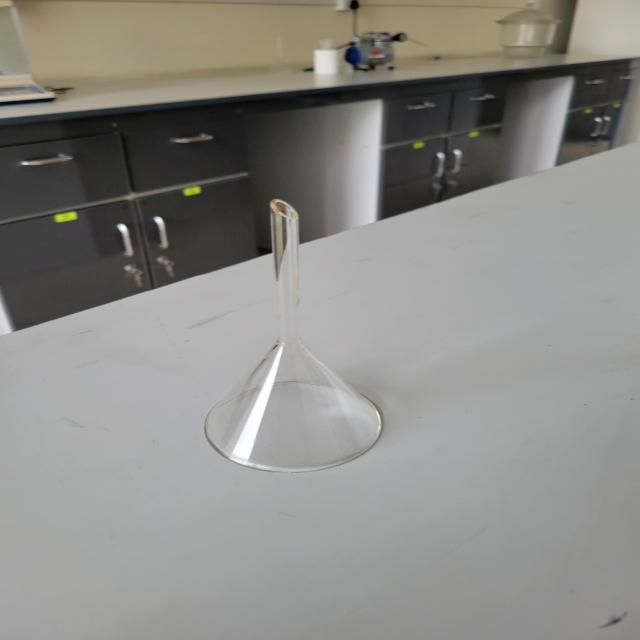Funnel: (174, 183, 404, 509)
